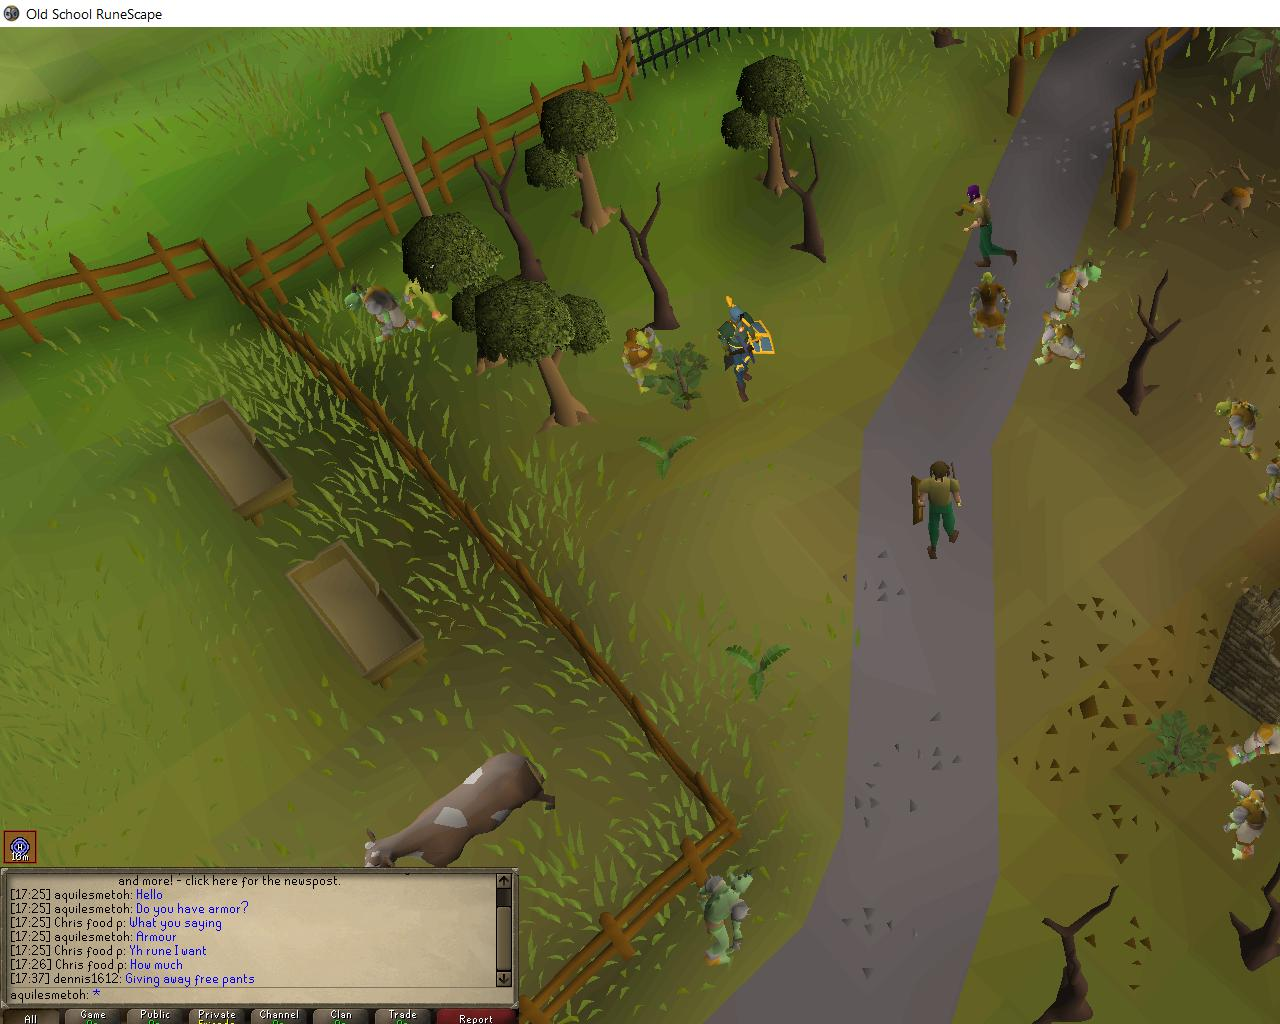Goblin: (341, 279, 427, 344), (400, 249, 458, 321), (615, 325, 664, 393)
